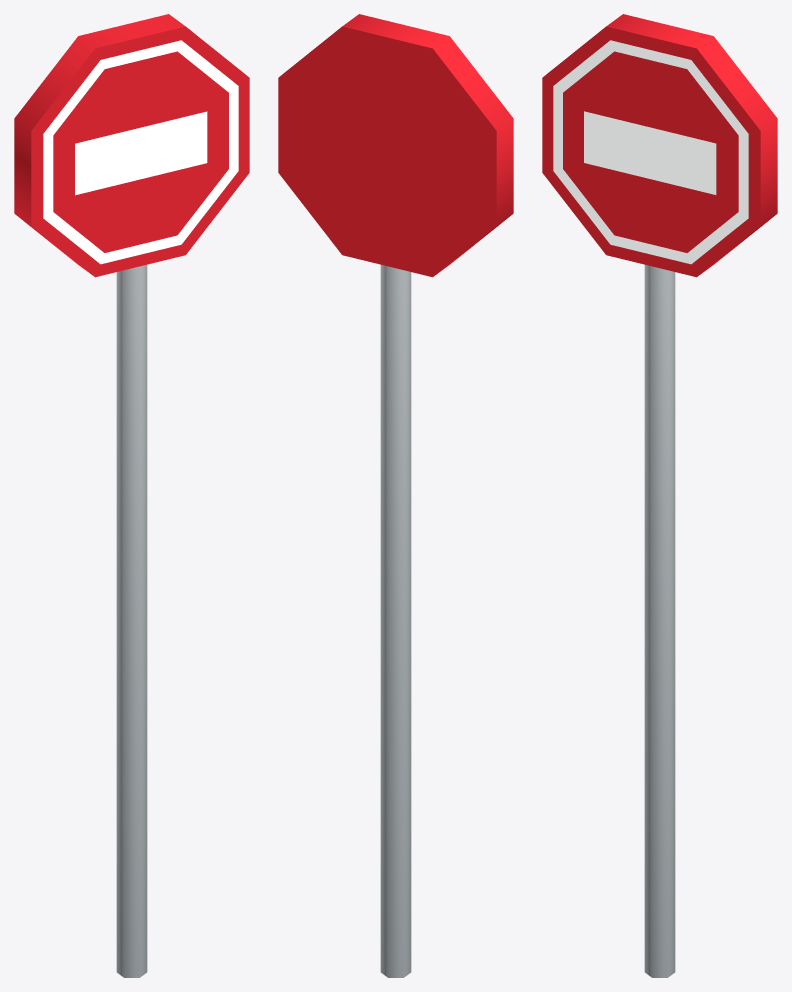
The model's file is Road_Sign_01.glb.
The picture shows the model from 3 angles, left to right: view 1: azimuth 30°, elevation 25°; view 2: azimuth 150°, elevation 25°; view 3: azimuth 330°, elevation 25°; orthographic projection.
Visible parts, largest first — view 1: Road_Sign_01; view 2: Road_Sign_01; view 3: Road_Sign_01.
Part boxes in pixels (x1,y1,x2,y2): Road_Sign_01: [14, 14, 249, 977]; Road_Sign_01: [278, 14, 513, 977]; Road_Sign_01: [542, 14, 777, 977].
Bounding box in the file's own units: 0.6618 × 2.72 × 0.0938.
1 material, 1 textured.
